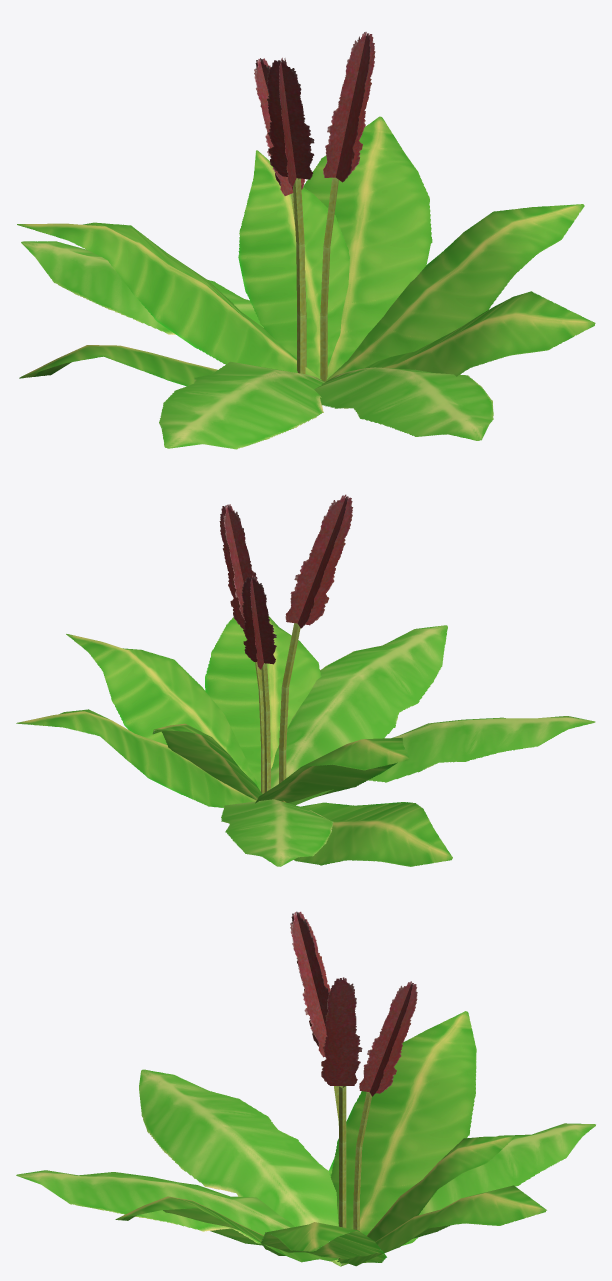
Rendered from plant_1.fbx.
3 renders of one model, top to bottom at view 1: azimuth 30°, elevation 25°; view 2: azimuth 150°, elevation 25°; view 3: azimuth 270°, elevation 25°, orthographic. The views are drawn at different scales.
Visible parts, largest first — view 1: plant_1; view 2: plant_1; view 3: plant_1.
Part boxes in pixels (x1,y1,x2,y2): plant_1: [17, 32, 595, 449]; plant_1: [16, 494, 595, 866]; plant_1: [16, 911, 595, 1266].
Size of the model in its own units: 1101 by 782 by 1208.
